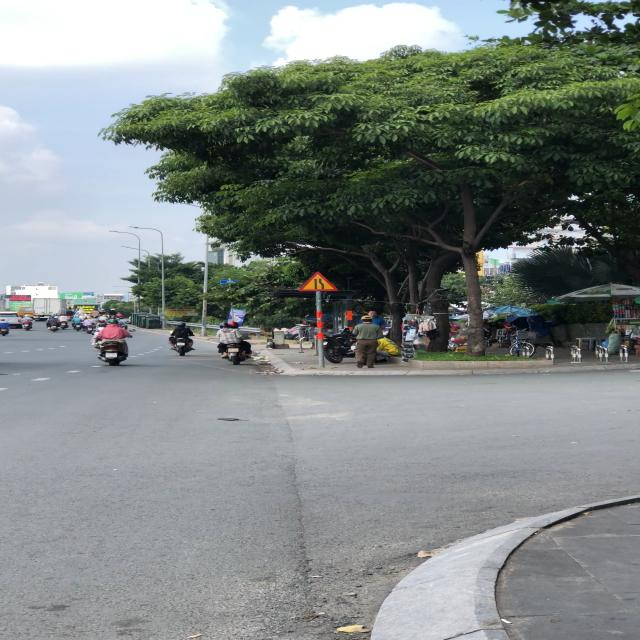Bien bao duong bi thu hep: (297, 271, 340, 292)
